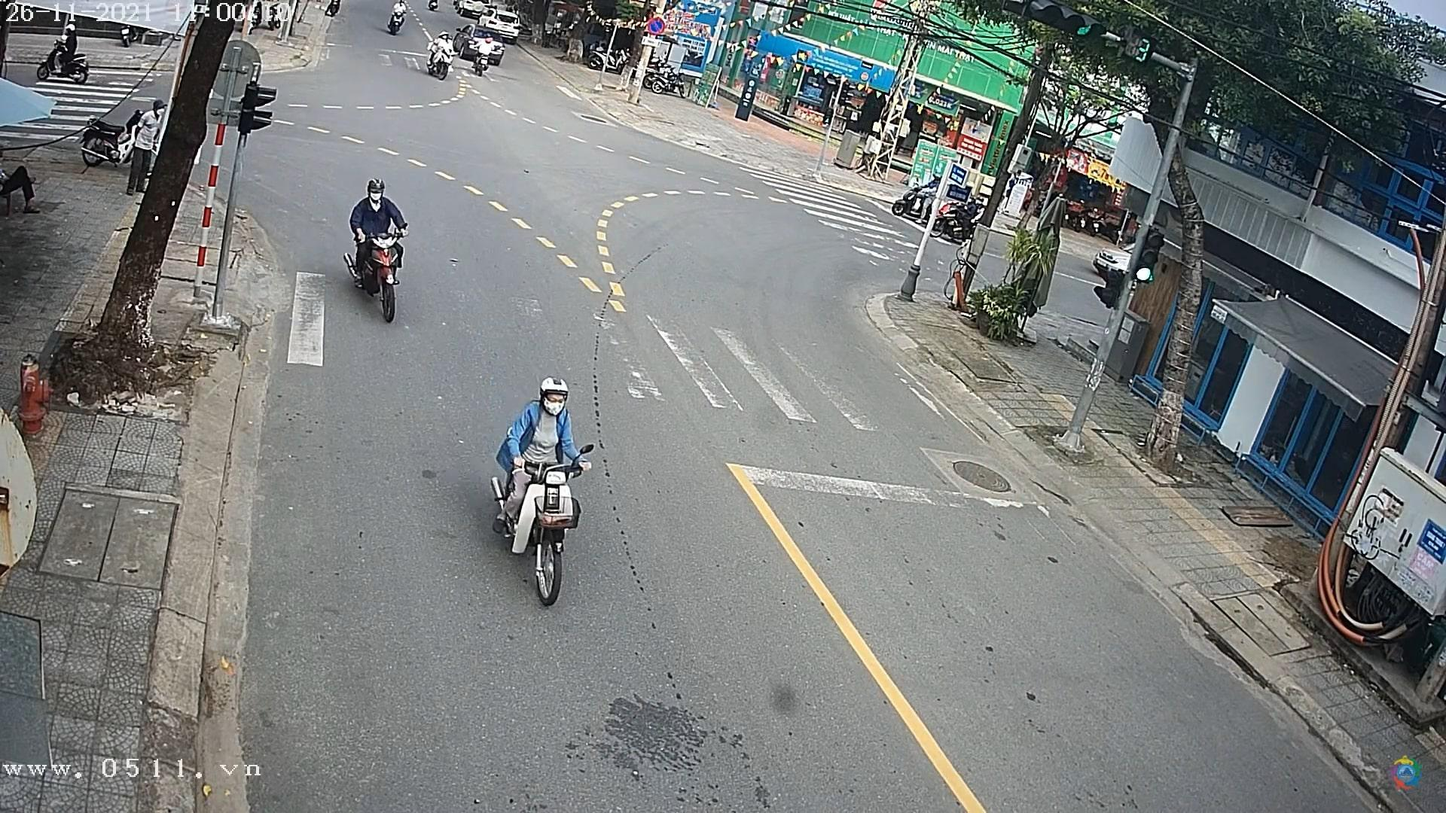motorbike: (492, 446, 593, 607), (345, 217, 408, 323), (423, 44, 456, 81)
